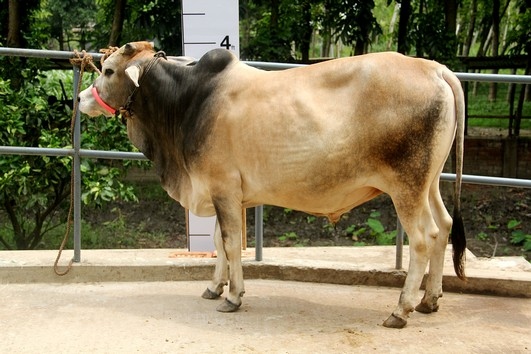cow: (66, 37, 468, 336)
